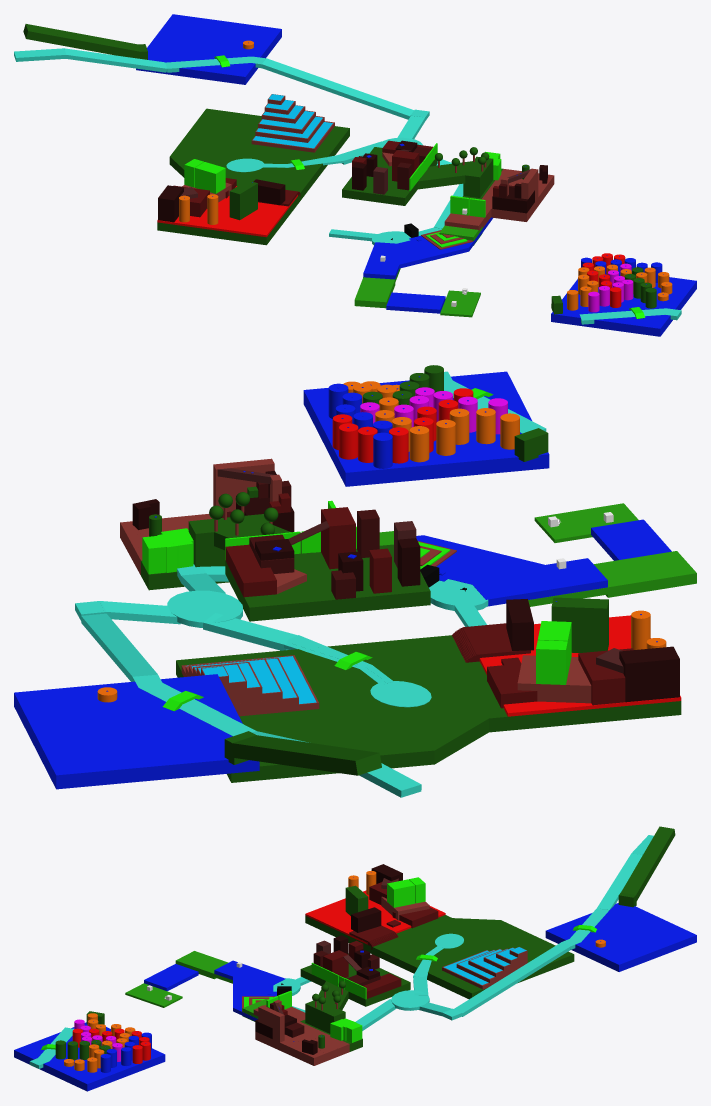
The model's file is route 1.obj.
3 views of the same model, one above another, from view 1: azimuth 30°, elevation 25°; view 2: azimuth 150°, elevation 25°; view 3: azimuth 270°, elevation 25° (orthographic). The views are drawn at different scales.
Parts seen in each view (by area): view 1: Cube (67), Cube (63), Cube (116), Cube (62), Cube (64), Cube (69), Cube (34), Cube (36), Cube (68), Cube (42), Cube (56), Cube (98) (+16 smaller); view 2: Cube (67), Cube (64), Cube (62), Cube (63), Cube (116), Cube (51), Cube (36), Cube (75), Cube (4), Cube (69), Cube (65), Cube (90) (+49 smaller); view 3: Cube (67), Cube (116), Cube (63), Cube (64), Cube (62), Cube (34), Cube (69), Cube (36), Cube (68), Cube (42), Cube (98), Cube (14) (+18 smaller).
Part boxes in pixels (left/top/right/bottom): Cube (67): left=136, top=14, right=281, bottom=84; Cube (63): left=170, top=108, right=288, bottom=171; Cube (116): left=551, top=274, right=696, bottom=336; Cube (62): left=214, top=113, right=349, bottom=183; Cube (64): left=157, top=161, right=313, bottom=245; Cube (69): left=157, top=186, right=297, bottom=237; Cube (34): left=261, top=58, right=413, bottom=119; Cube (36): left=165, top=56, right=421, bottom=304; Cube (68): left=55, top=29, right=140, bottom=58; Cube (42): left=64, top=48, right=501, bottom=170; Cube (56): left=342, top=155, right=432, bottom=205; Cube (98): left=386, top=292, right=445, bottom=313; Cube (67): left=14, top=674, right=259, bottom=789; Cube (64): left=380, top=635, right=681, bottom=732; Cube (62): left=176, top=641, right=420, bottom=736; Cube (63): left=227, top=690, right=434, bottom=782; Cube (116): left=303, top=371, right=549, bottom=486; Cube (51): left=225, top=548, right=400, bottom=621; Cube (36): left=139, top=551, right=696, bottom=736; Cube (75): left=619, top=646, right=679, bottom=702; Cube (4): left=499, top=558, right=607, bottom=599; Cube (69): left=479, top=615, right=681, bottom=716; Cube (65): left=377, top=711, right=488, bottom=764; Cube (90): left=551, top=597, right=608, bottom=652; Cube (67): left=545, top=903, right=696, bottom=971; Cube (116): left=14, top=1022, right=165, bottom=1091; Cube (63): left=424, top=920, right=574, bottom=983; Cube (64): left=305, top=915, right=476, bottom=966; Cube (62): left=398, top=931, right=535, bottom=999; Cube (34): left=454, top=942, right=571, bottom=1016; Cube (69): left=305, top=890, right=445, bottom=944; Cube (36): left=175, top=908, right=608, bottom=994; Cube (68): left=621, top=844, right=664, bottom=901; Cube (42): left=330, top=853, right=642, bottom=1032; Cube (98): left=144, top=964, right=198, bottom=991; Cube (14): left=305, top=1000, right=345, bottom=1033.
Size of the model in its own units: 98.78 by 28.92 by 169.
